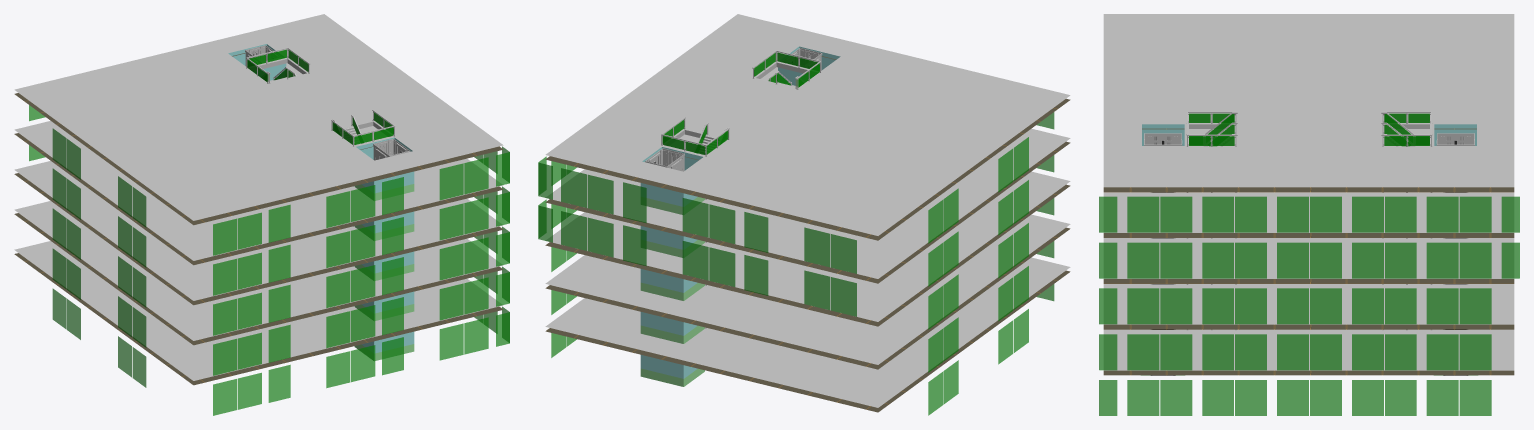
The model's file is SM_Building12_Interior02.fbx.
3 views of the same model, side by side, from view 1: azimuth 30°, elevation 25°; view 2: azimuth 150°, elevation 25°; view 3: azimuth 270°, elevation 25° (orthographic). The views are drawn at different scales.
Parts seen in each view (by area): view 1: SM_Building12_Interior02; view 2: SM_Building12_Interior02; view 3: SM_Building12_Interior02.
Boxes of the visible parts, x1=… form: SM_Building12_Interior02: x1=14, y1=14, x2=509, y2=415; SM_Building12_Interior02: x1=538, y1=14, x2=1070, y2=415; SM_Building12_Interior02: x1=1099, y1=14, x2=1519, y2=415.
Size of the model in its own units: 3373 by 2132 by 3373.
